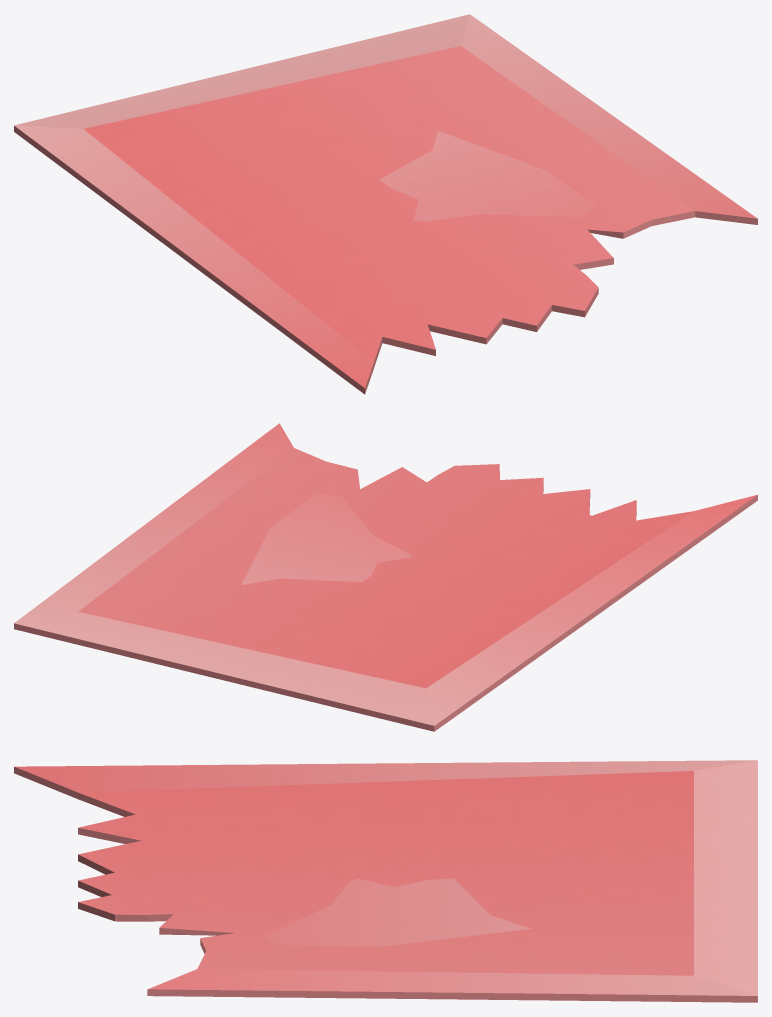
The model's file is Props_Carpet_01.fbx.
The picture shows the model from 3 angles, top to bottom: view 1: azimuth 30°, elevation 25°; view 2: azimuth 150°, elevation 25°; view 3: azimuth 270°, elevation 25°; orthographic projection. The views are drawn at different scales.
Visible parts, largest first — view 1: Props_Carpet_01; view 2: Props_Carpet_01; view 3: Props_Carpet_01.
Boxes of the visible parts, x1,y1,x2,y2 form: Props_Carpet_01: (14,14,757,394); Props_Carpet_01: (14,423,757,731); Props_Carpet_01: (14,760,757,1002).
Size of the model in its own units: 150 by 9.87 by 200.
